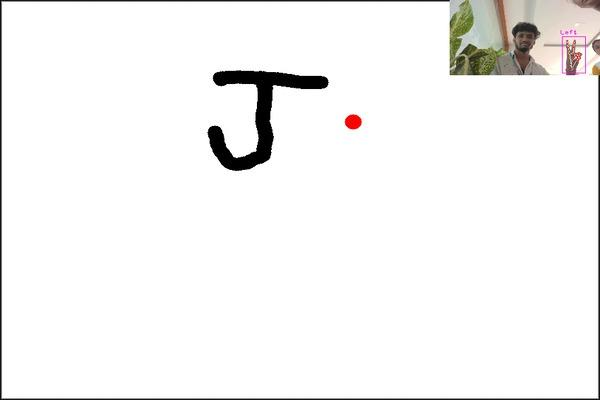J: (200, 62, 334, 172)
